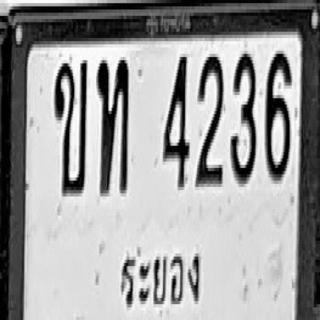A02: (50, 44, 91, 199)
A30: (95, 47, 132, 199)
N02: (194, 40, 230, 212)
N03: (229, 40, 257, 209)
N04: (155, 43, 194, 201)
N06: (258, 38, 298, 199)
P53: (112, 238, 220, 320)
